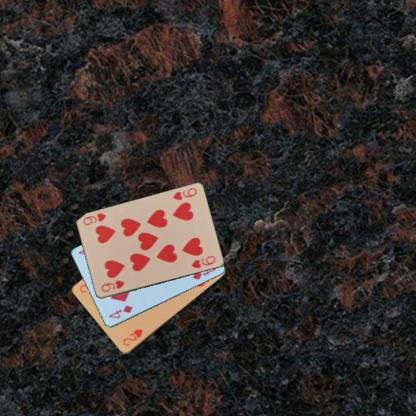2h: (120, 326, 144, 348)
4d: (106, 302, 134, 320)
9h: (170, 186, 198, 202), (98, 278, 126, 293)
